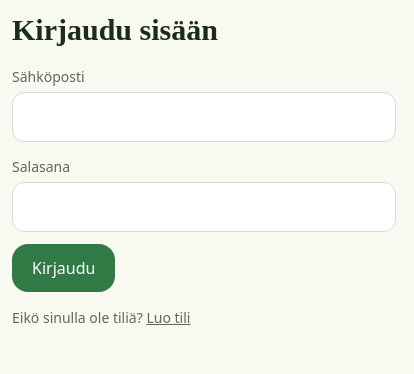
Scenario: Login › shows the server error message on failure
Type "a@b.c" into the field labelled "Sähköposti" at (204, 117), box [12, 92, 396, 142]
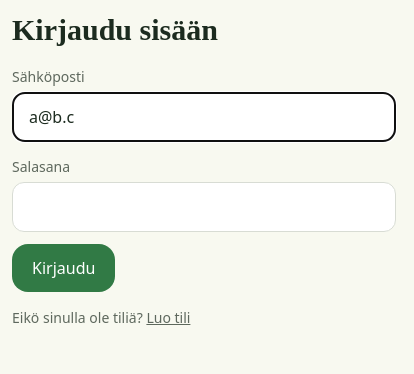
Type "wrong" into the password field labelled "Salasana" at (204, 207), box [12, 182, 396, 232]
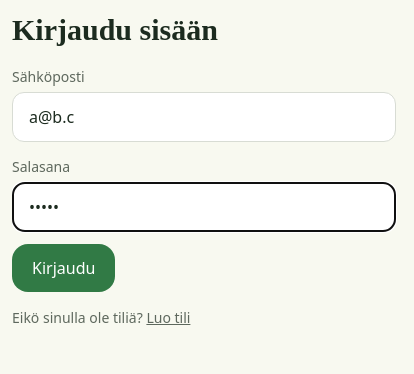
Click the button "Kirjaudu" at (64, 268), box [12, 244, 115, 292]
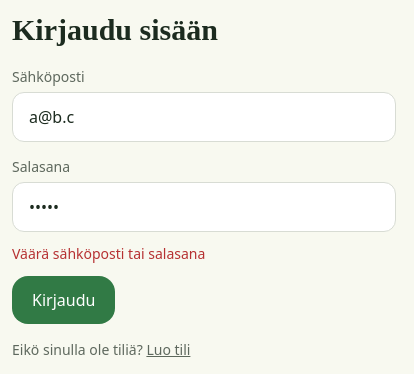
Now the text "Väärä sähköposti tai salasana" is shown, box [12, 244, 205, 263]
